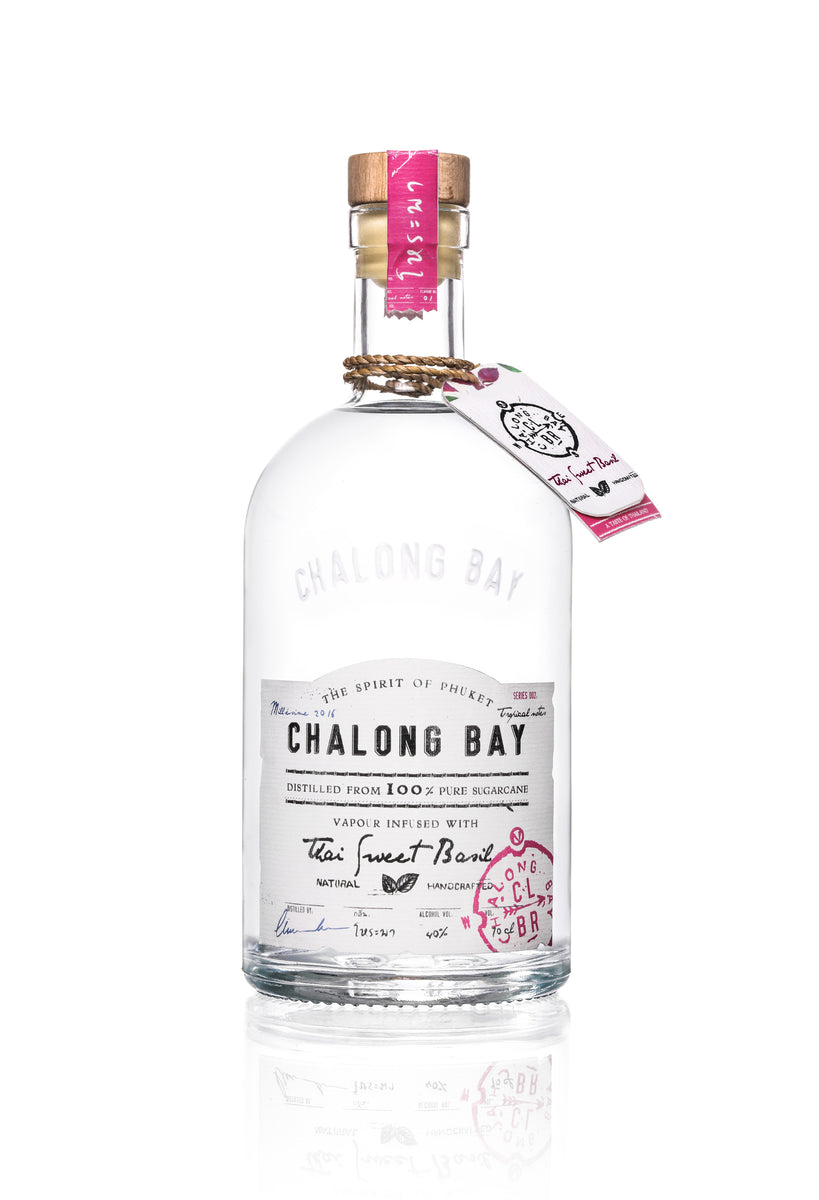glass_bottle: (213, 131, 617, 1046)
